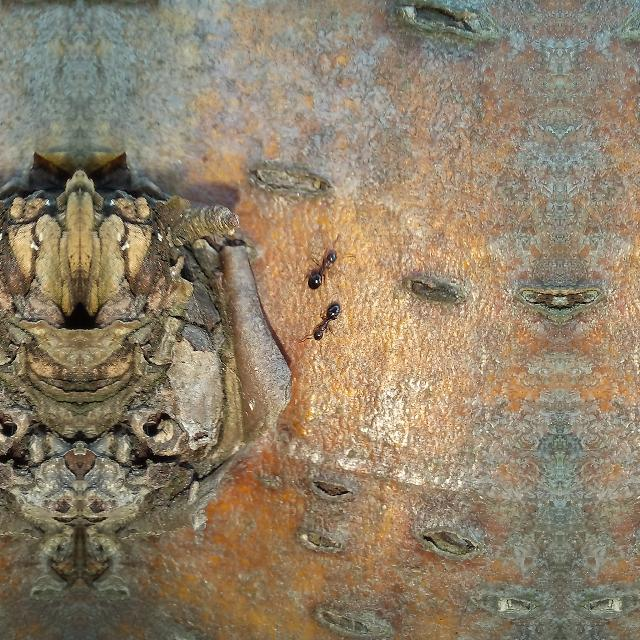Dolichoderus: (300, 238, 342, 296), (310, 291, 348, 345)
